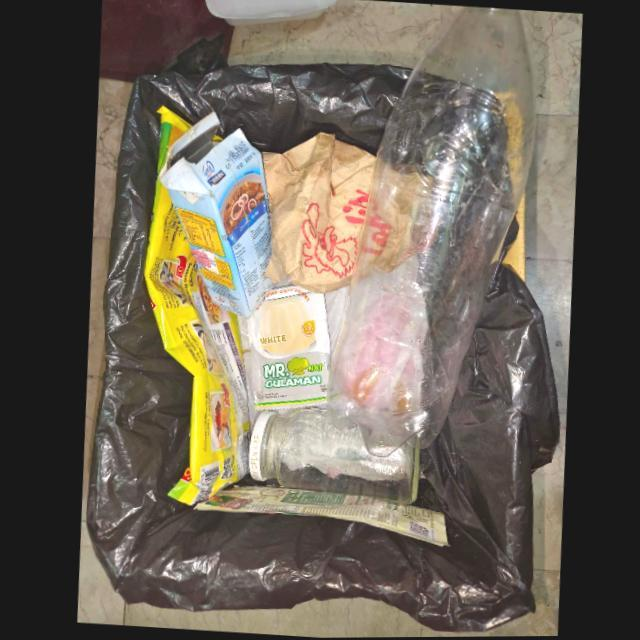glass: (245, 408, 416, 503)
paper: (156, 112, 271, 320), (261, 133, 375, 294)
plastic: (324, 7, 534, 458)
wrapper: (142, 107, 247, 505), (190, 485, 445, 547), (245, 285, 329, 410)
